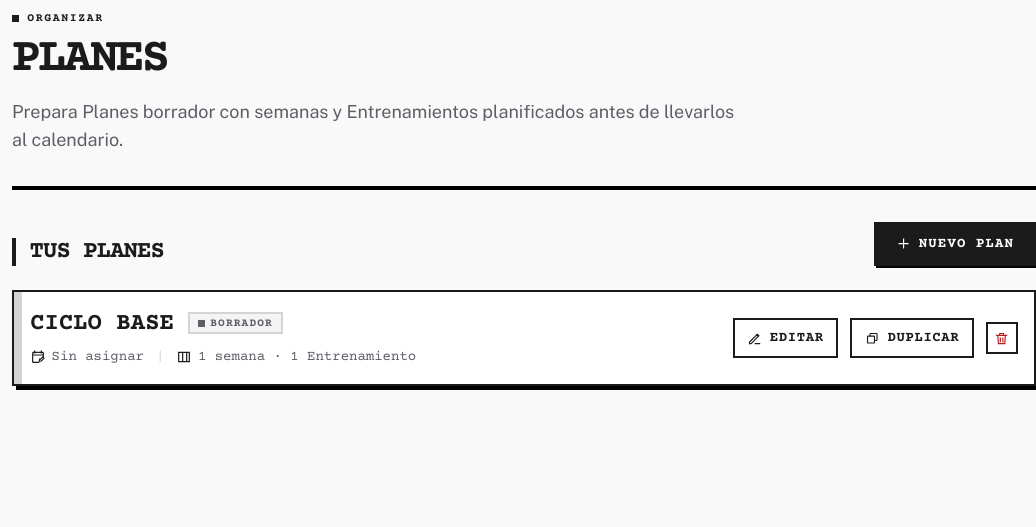
Test case: ciclo de vida en el listado › duplicar desde el listado pide un borrador nuevo
The width and height of the screenshot is (1036, 527).
Click the button with aria-label "Duplicar Ciclo base".
click(912, 338)  # box [850,318,974,358]
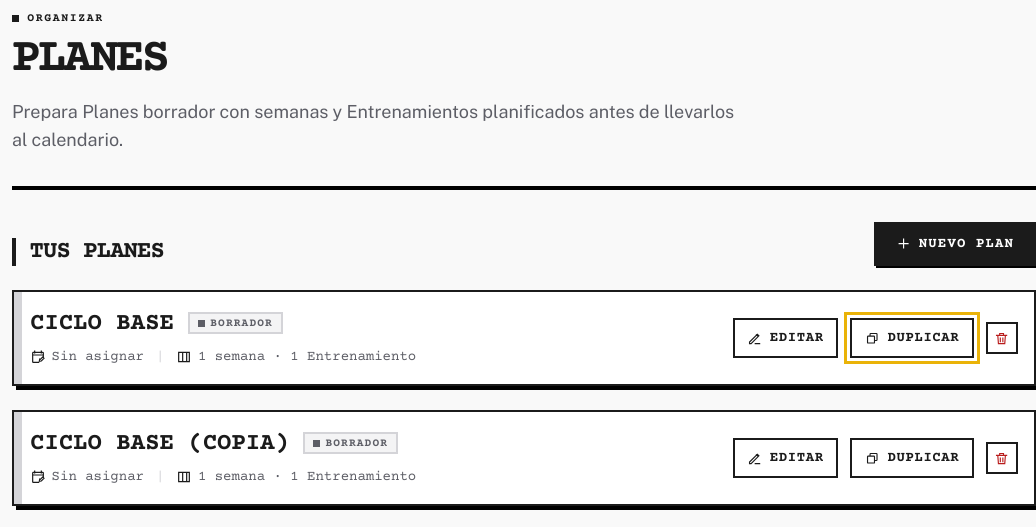
Result: the text "Ciclo base (copia)" is shown at [30,430,289,457]
